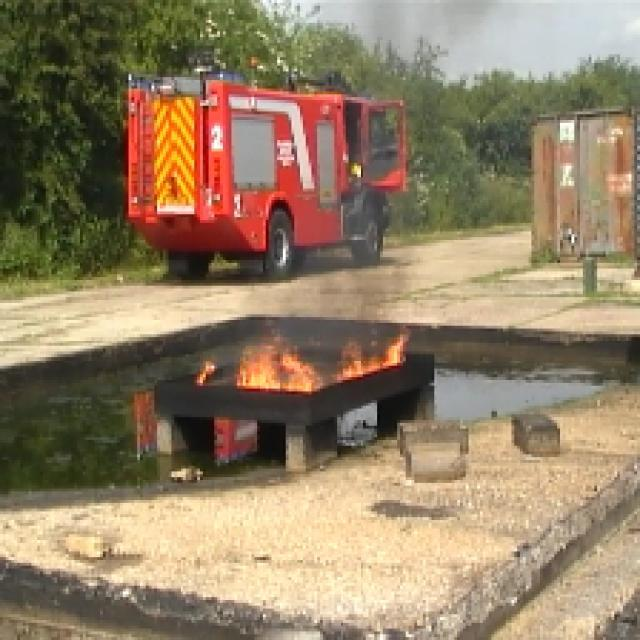Fire: (189, 310, 410, 393)
